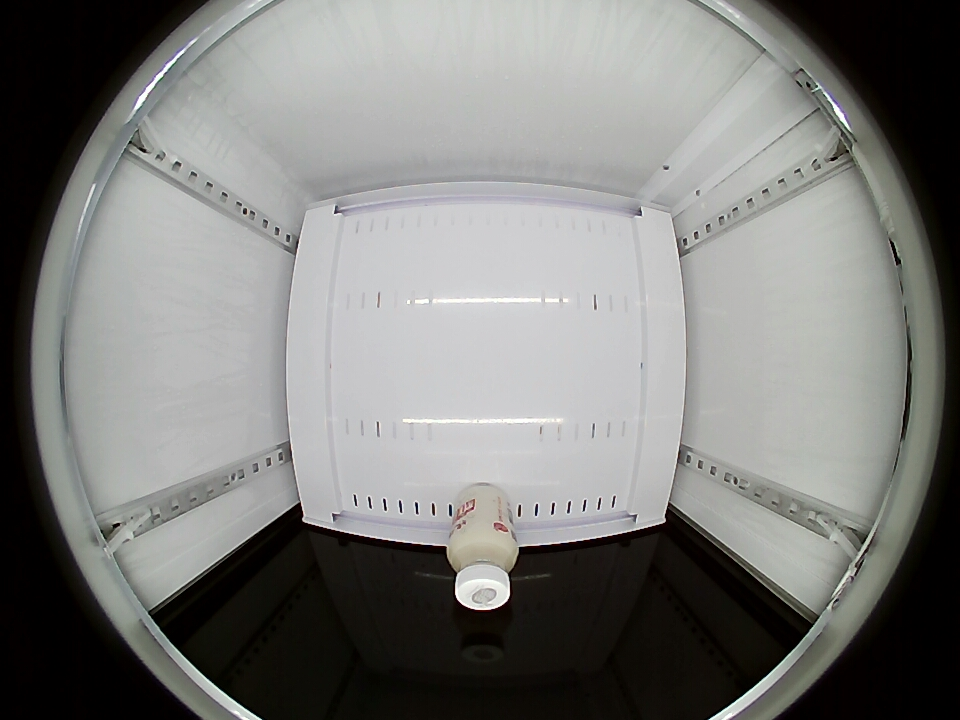weiweidounai: (446, 525, 519, 610)
